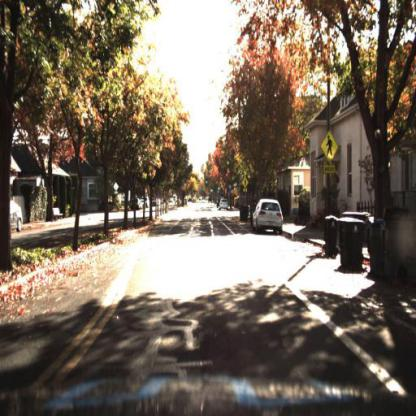car: (249, 196, 285, 234), (1, 201, 25, 232), (218, 198, 230, 213)
